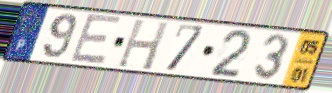2: (209, 28, 253, 79)
3: (252, 32, 292, 83)
7: (165, 23, 206, 74)
9: (41, 12, 79, 60)
E: (67, 12, 124, 66)
H: (114, 17, 171, 72)
